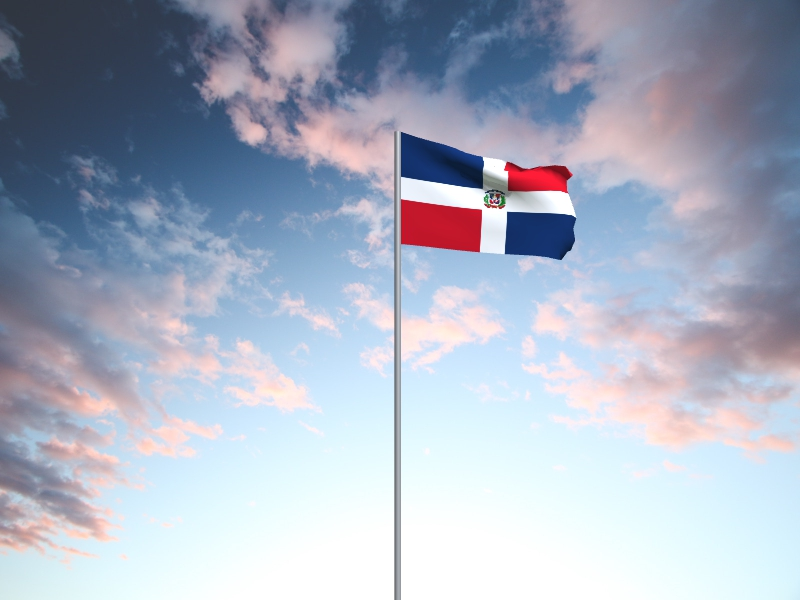do: (402, 133, 578, 262)
